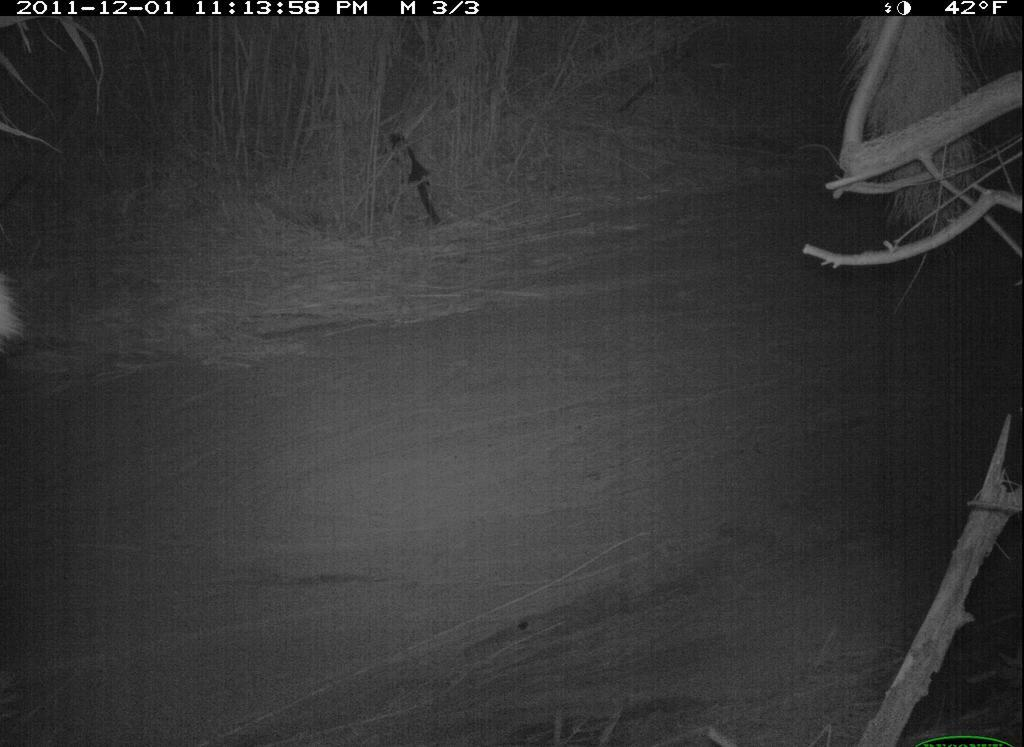raccoon: (3, 262, 38, 377)
